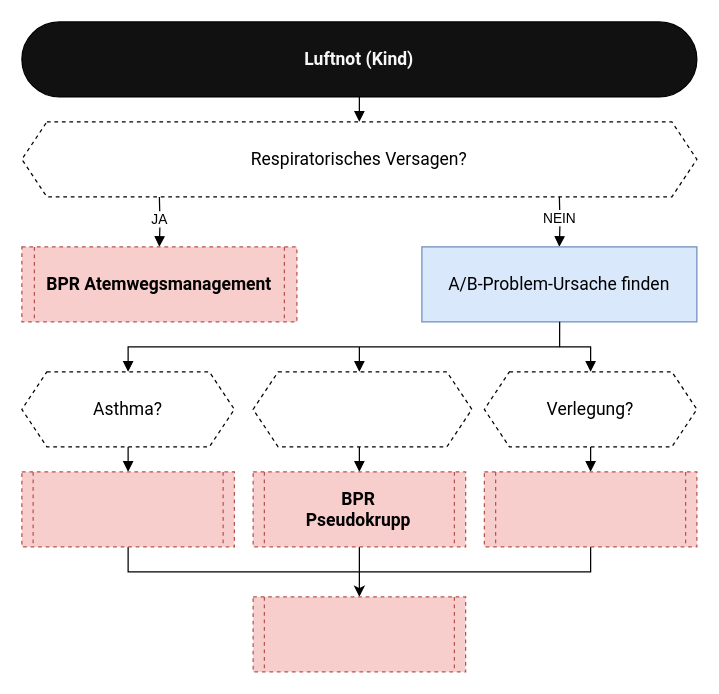
The diagram is 719 pixels wide and 694 high, and some of its shapes have lost their labels. Each missing label, with the centre of its shape:
"BPR Bolus" belongs at point (590, 509).
"BPR Bronchialobstruktion" belongs at point (127, 509).
"BPR Dyspnoe" belongs at point (359, 634).
"Pseudokrupp?" belongs at point (362, 409).
